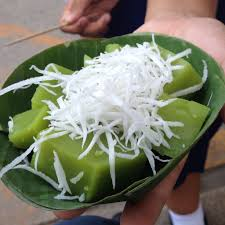kanompiakpoon: (11, 38, 217, 205)
